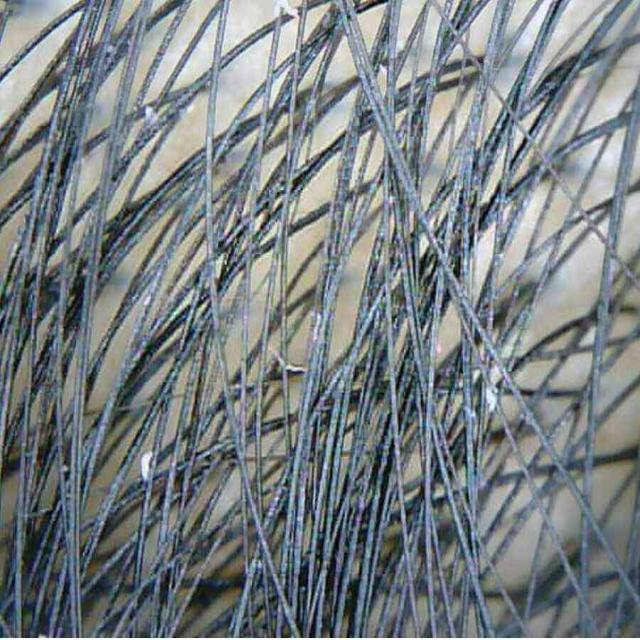d: (140, 452, 152, 480)
